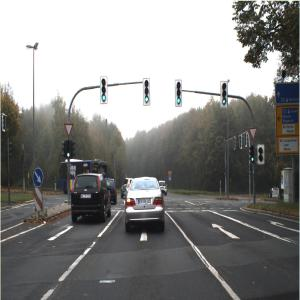give way: (249, 128, 259, 143), (65, 124, 75, 139)
keep right: (34, 168, 44, 188)
